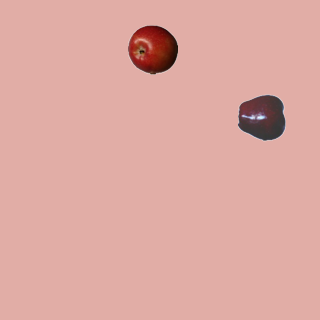Apple Braeburn: (127, 24, 177, 74)
Apple Red Delicious: (237, 92, 287, 142)
